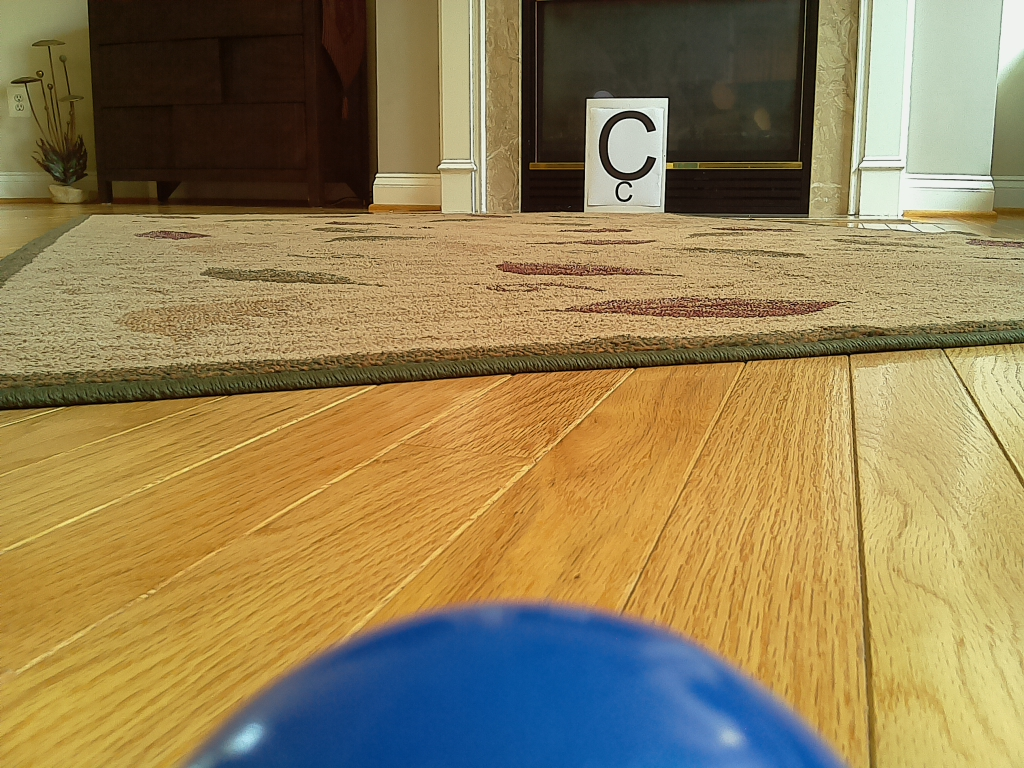letter: (599, 112, 655, 182)
